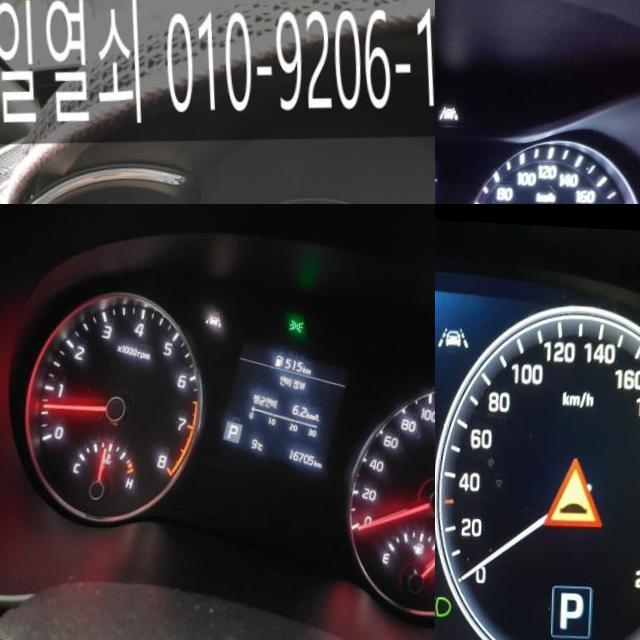LaneCenteringOff: (438, 322, 469, 347), (437, 100, 458, 117), (205, 307, 224, 325)
Low beam: (435, 590, 453, 617)
SideLamp: (289, 312, 306, 329)
